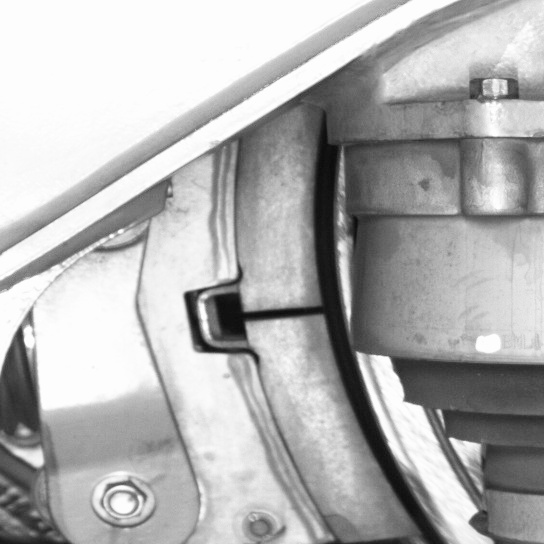KnifeSwitch: (237, 137, 448, 542)
